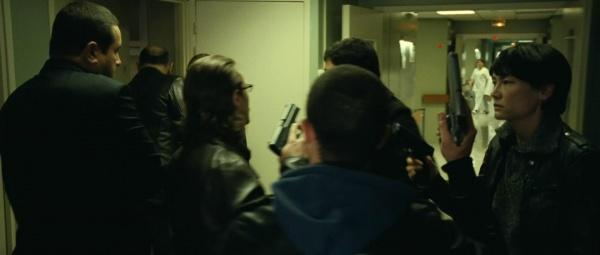Gun: (442, 52, 471, 149), (268, 101, 304, 156)
